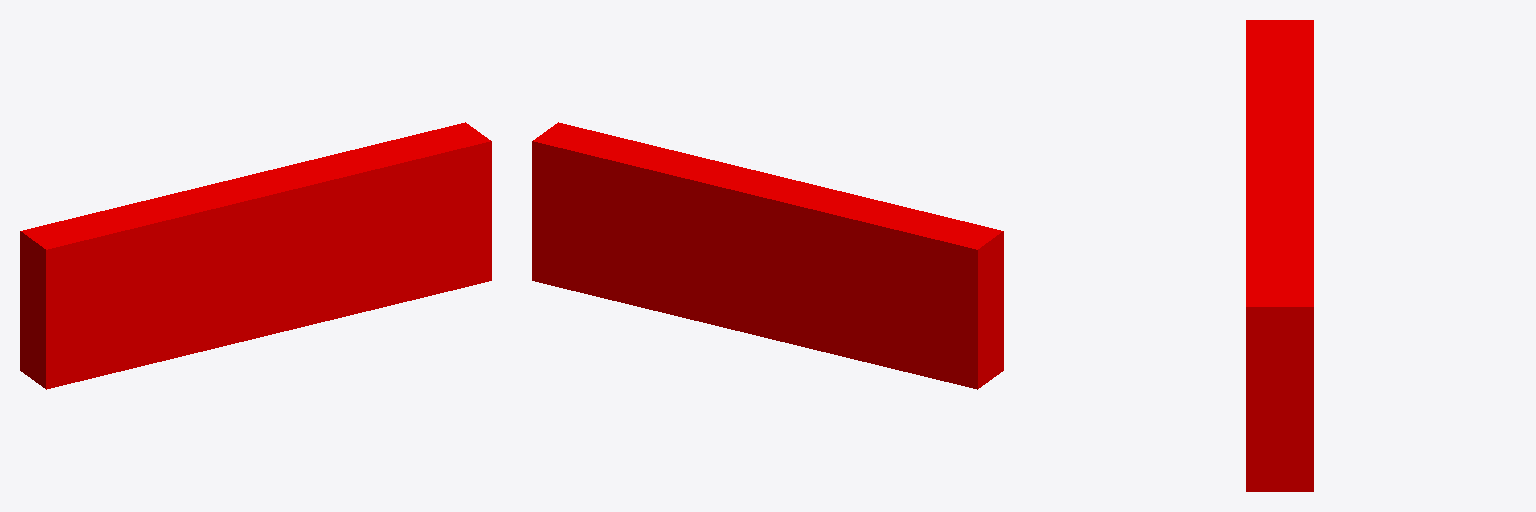
robot.urdf — ball:
<?xml version="0.0" ?>
<robot name="ball">
    <link name="wall">
        <contact>
            <lateral_friction value="1"/>
        </contact>

        <inertial>
            <origin xyz="0 0 0" rpy="0 0 0"/>
            <mass value="0.0"/>
            <inertia ixx="0"  ixy="0"  ixz="0" iyy="0" iyz="0" izz="0" />
        </inertial>

        <visual>
            <origin xyz="0 0 0" rpy="0 0 0" />
            <geometry>
                <box size="1.0 0.1 0.3" />
            </geometry>
            <material name="Red">
                <color rgba="1.0 0.0 0.0 1.0"/>
            </material>
        </visual>

        <collision>
            <origin xyz="0 0 0" rpy="0 0 0"/>
            <geometry>
                <box size="1.0 0.1 0.3" />
            </geometry>
        </collision>
    </link>
</robot>

--- Render facts (derived) ---
The picture shows the robot from 3 angles, left to right: view 1: azimuth 30°, elevation 25°; view 2: azimuth 150°, elevation 25°; view 3: azimuth 270°, elevation 25°; orthographic projection.
Model ball with 1 links and 0 joints (none), rooted at wall, posed every joint at zero.
Visible links, largest first — view 1: wall; view 2: wall; view 3: wall.
Boxes of the visible links, x1,y1,x2,y2 form: wall: (20,122,491,389); wall: (532,122,1003,389); wall: (1246,20,1313,491).
Size in the robot's own frame: 1 by 0.1 by 0.3 metres.
Geometry: primitives only (box / cylinder / sphere), no mesh files.